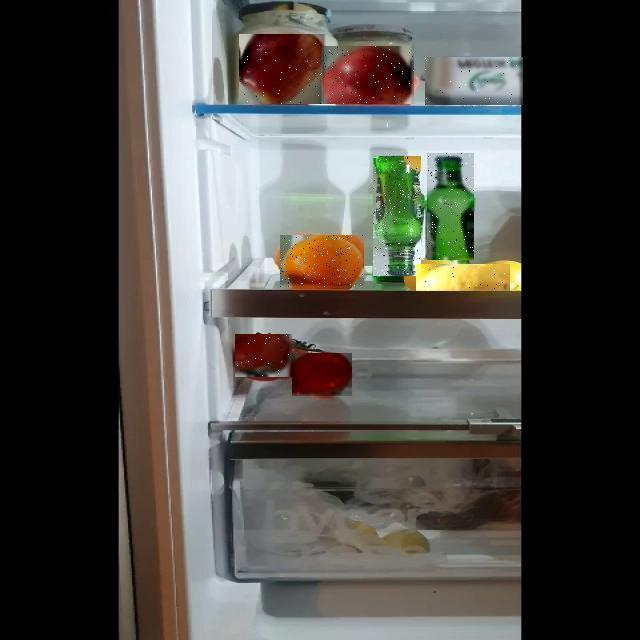Apple: (240, 34, 328, 104), (326, 46, 416, 104)
Cheese: (425, 57, 523, 105)
Lemon: (416, 264, 510, 291)
Orange: (280, 236, 364, 288)
Tomato Paste: (292, 354, 352, 398), (236, 334, 294, 377)
Water: (373, 157, 421, 277), (427, 153, 474, 260)
